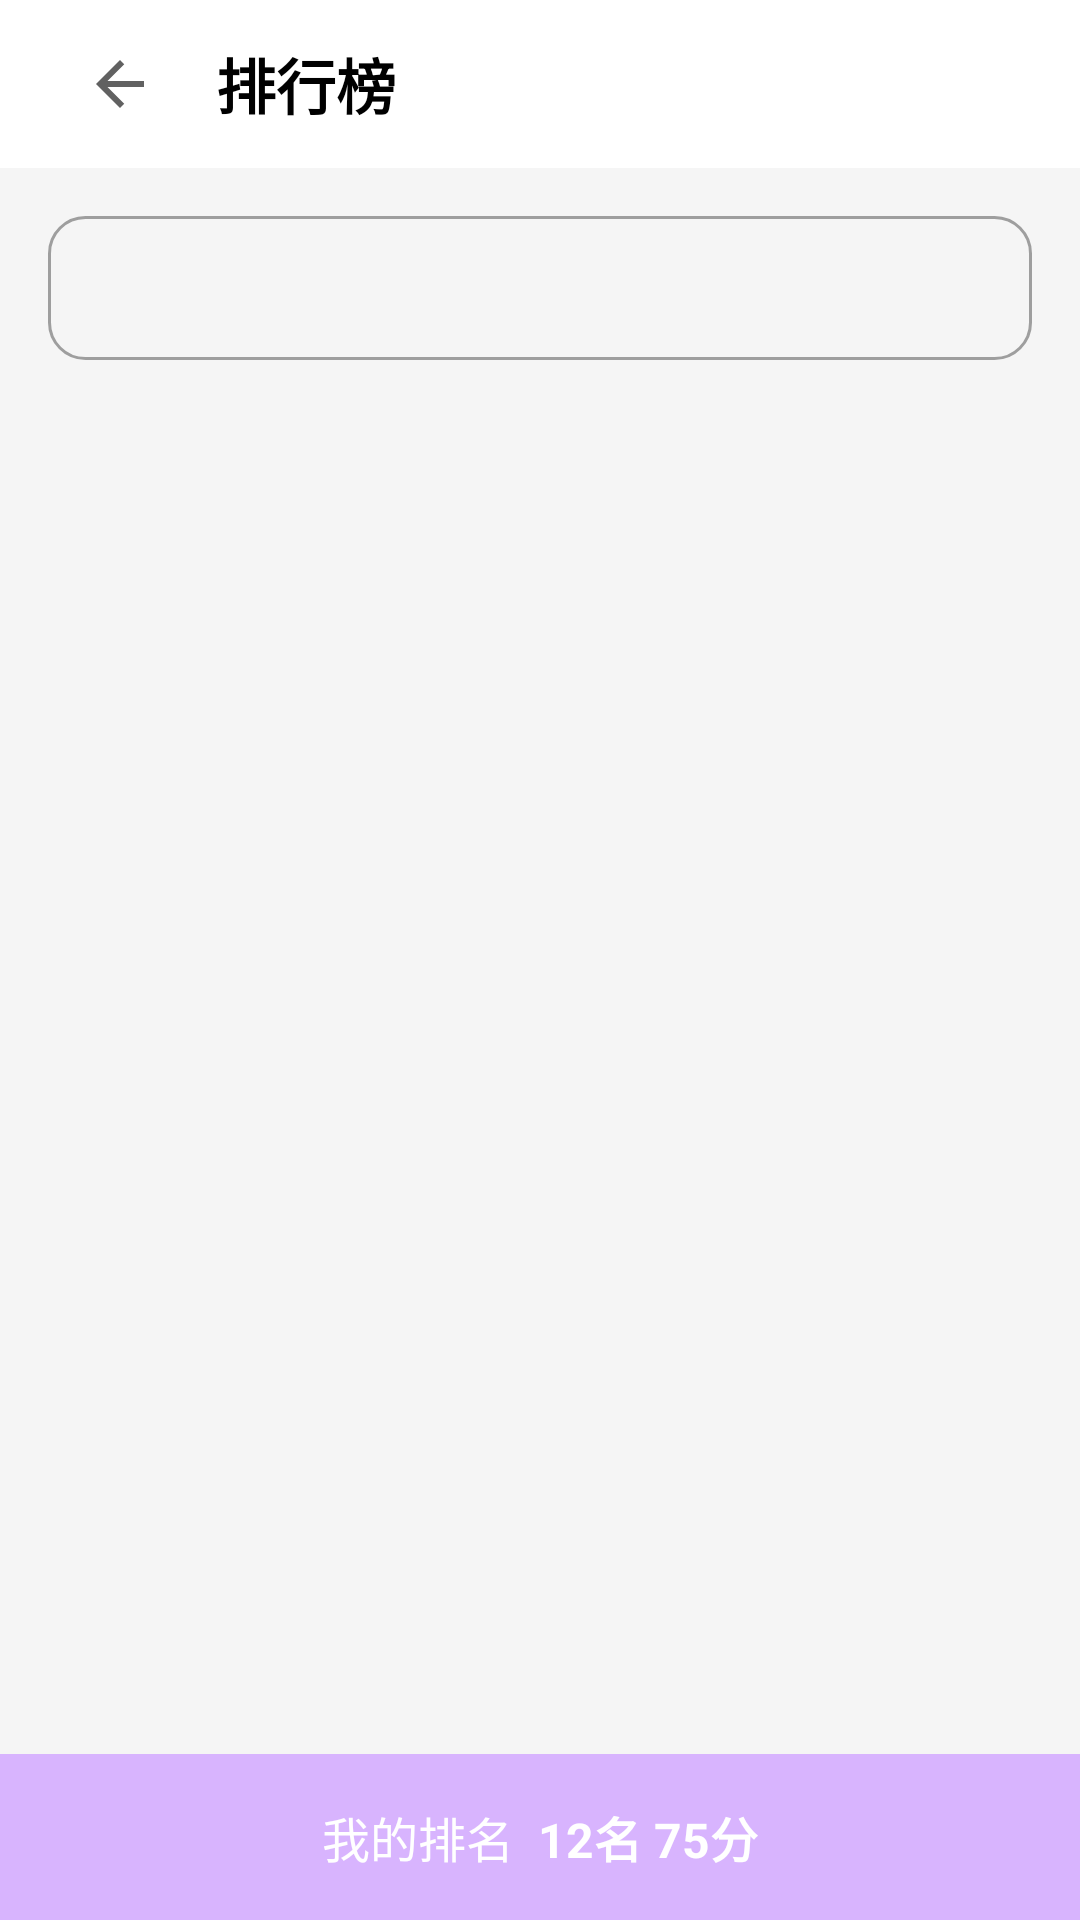

Locate icon controls on the screen. Image size 1080px×1920px, boxes as rect(x1, y1, x2, y2).
返回: rect(96, 60, 144, 108)
